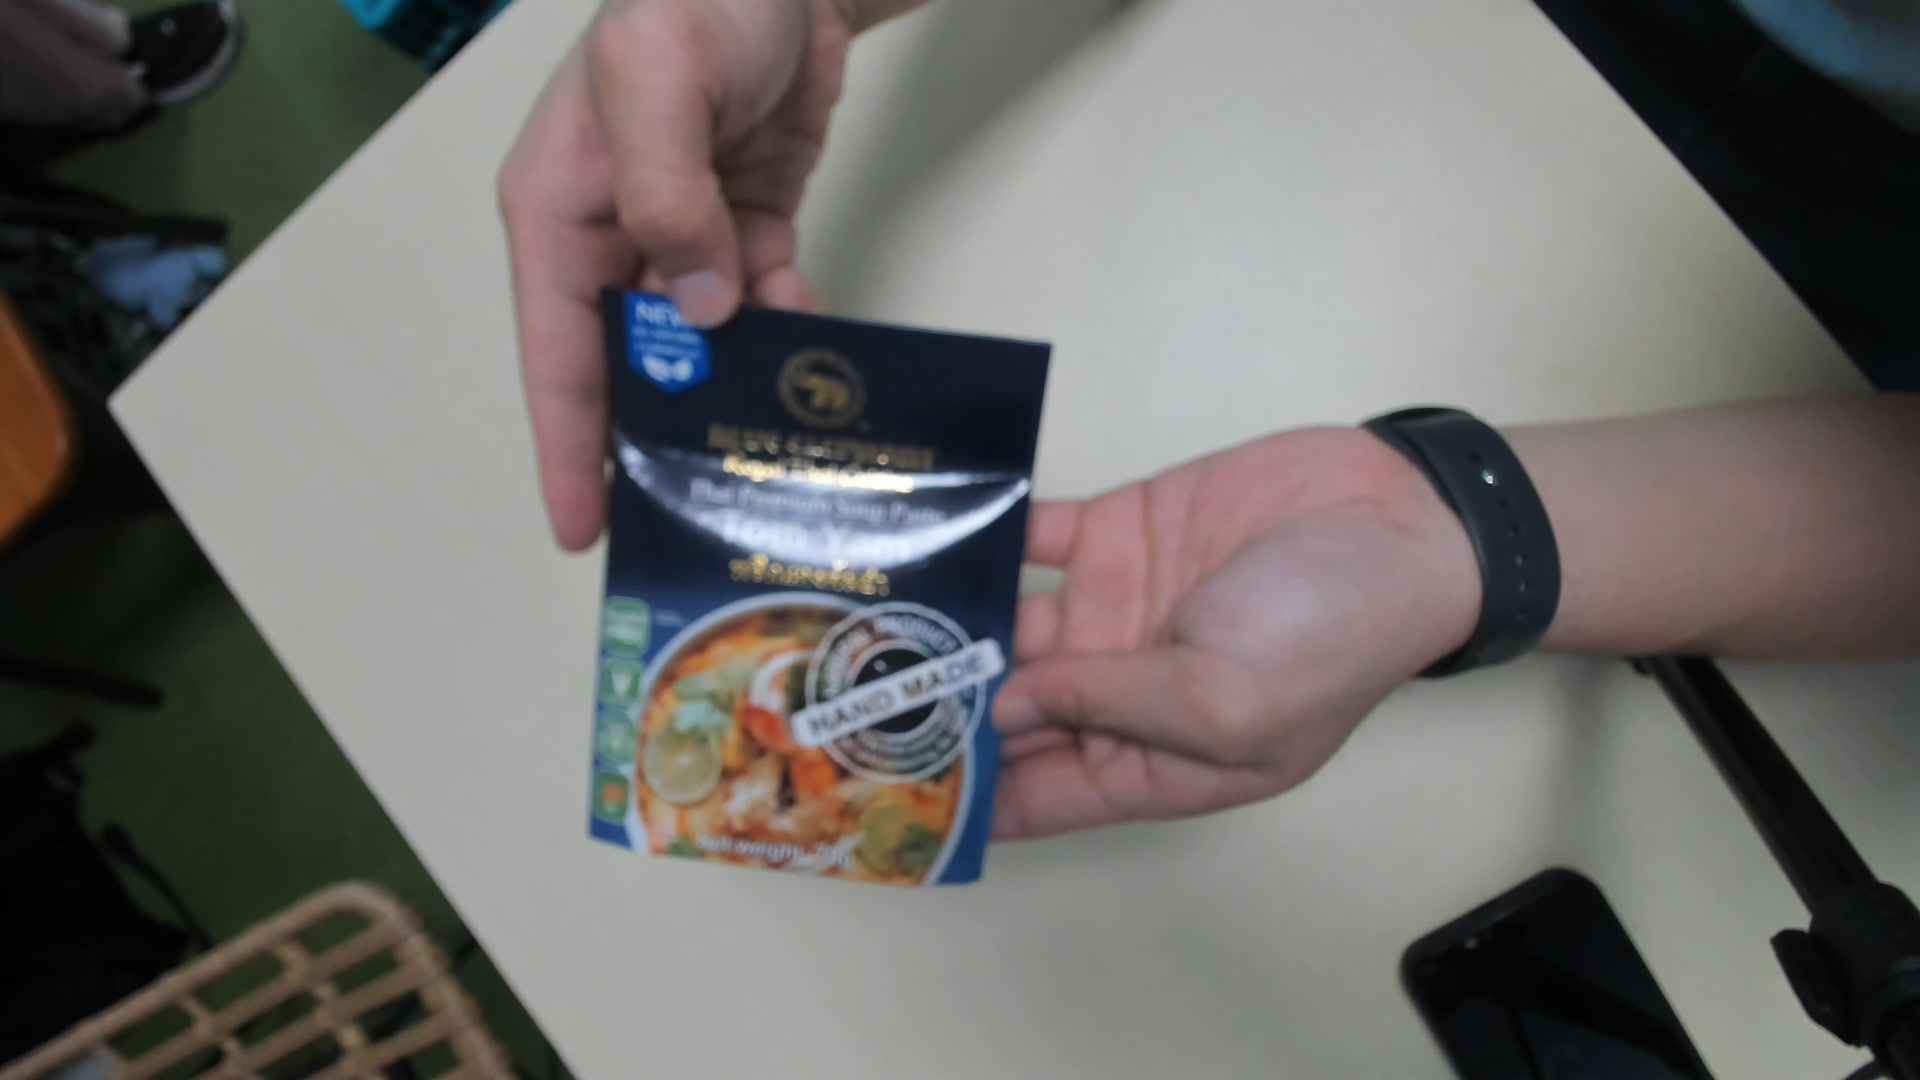OtherSauceDressing_0-99g_Halal_NonHealthy: (580, 285, 1043, 895)
